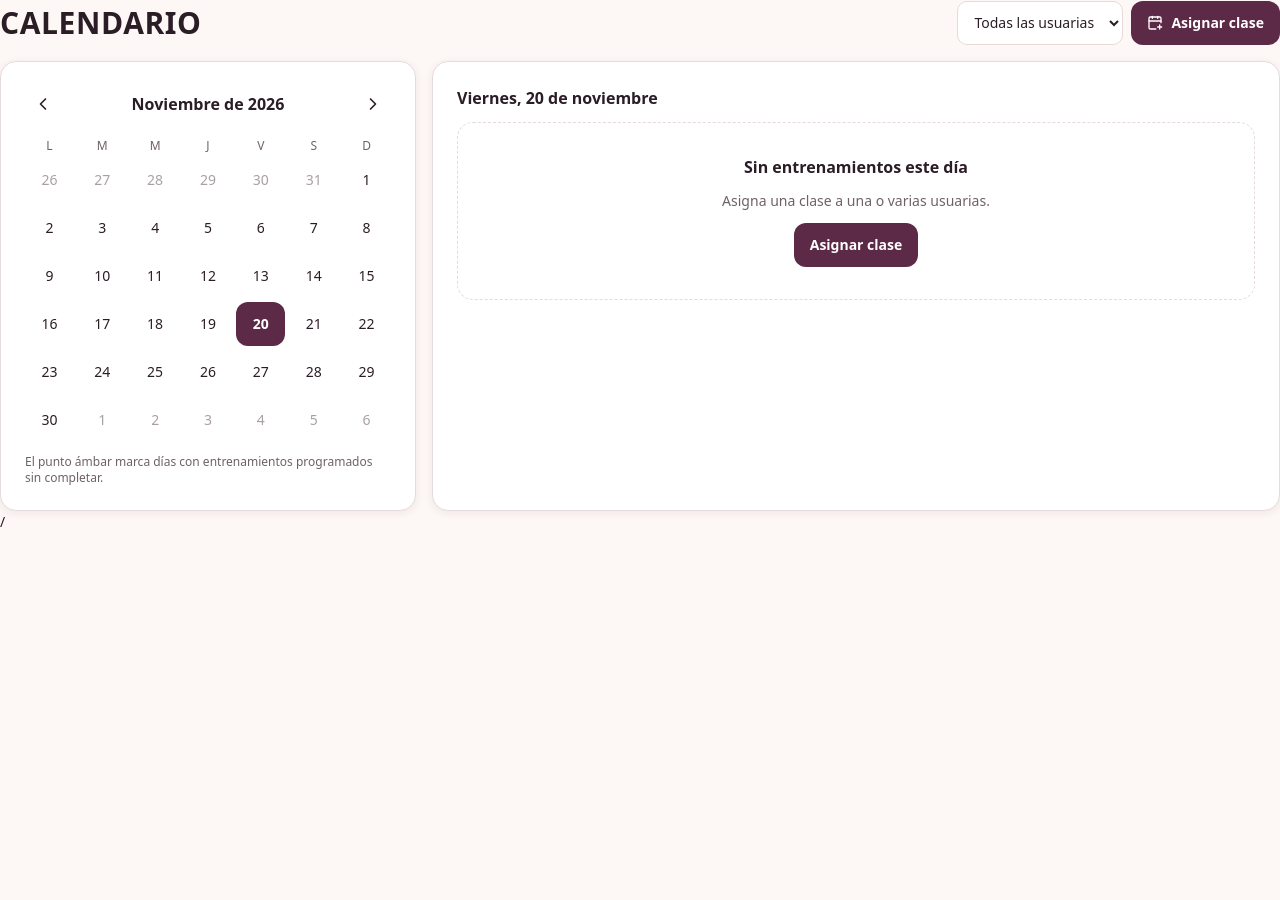
Test: CoachCalendarPage (HU-10) › el botón Asignar está deshabilitado sin clase o sin usuarias
Step 1. Click the button "Asignar clase" in the row of "Calendario" → (1206, 22), box [1131, 0, 1279, 44]
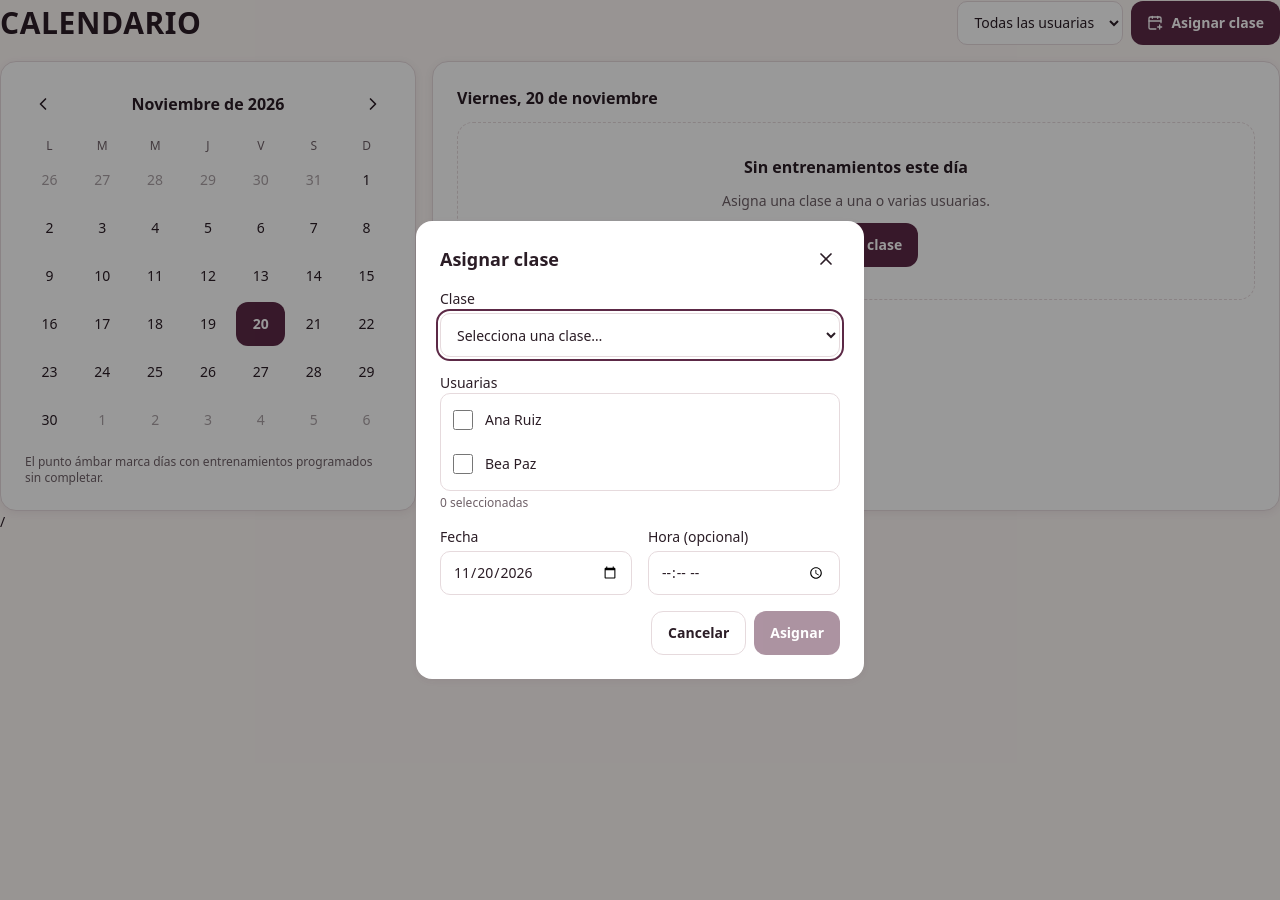
Expected: the button "Asignar" is disabled, [754, 611, 840, 655]
